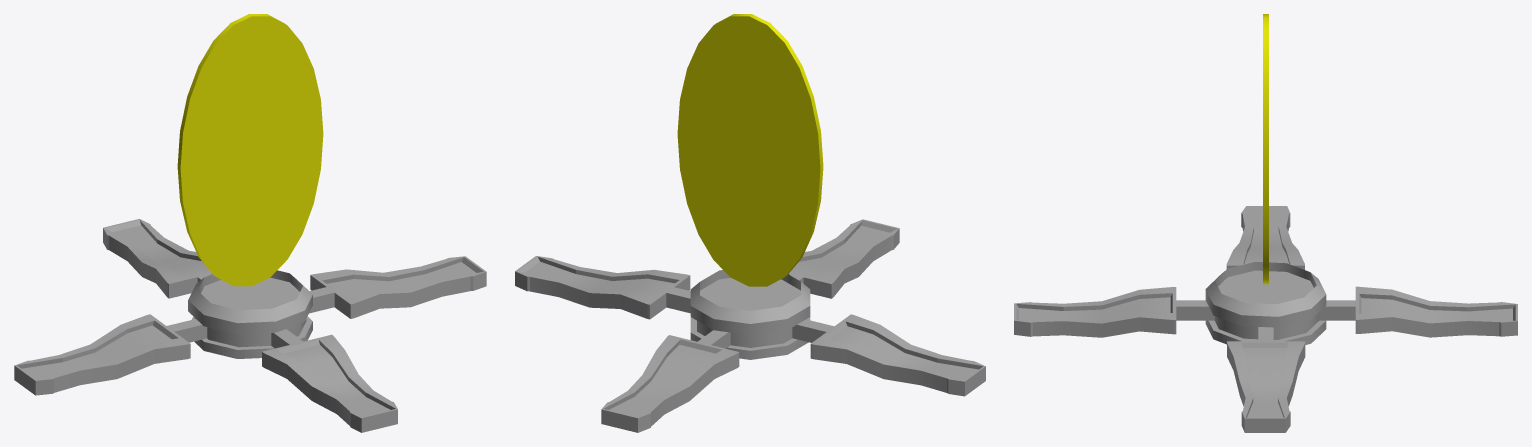
Rendered from Portal.fbx.
3 renders of one model, left to right at view 1: azimuth 30°, elevation 25°; view 2: azimuth 150°, elevation 25°; view 3: azimuth 270°, elevation 25°, orthographic. The views are drawn at different scales.
Visible parts, largest first — view 1: polySurface8; view 2: polySurface8; view 3: polySurface8.
Part boxes in pixels (x1,y1,x2,y2): polySurface8: [14, 14, 486, 432]; polySurface8: [515, 14, 985, 432]; polySurface8: [1014, 14, 1517, 432].
Bounding box in the file's own units: 322 × 217 × 322.
